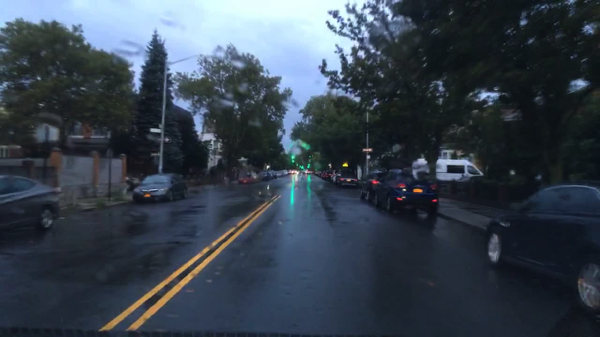car: (484, 184, 599, 314), (0, 175, 60, 233), (375, 168, 440, 216), (133, 173, 188, 203), (358, 169, 387, 201), (336, 170, 359, 188), (238, 174, 260, 184), (126, 175, 139, 191), (260, 172, 271, 181), (330, 170, 337, 184), (323, 170, 333, 179), (269, 169, 277, 179), (288, 170, 295, 175), (308, 170, 315, 175), (315, 171, 322, 176), (277, 171, 283, 176), (284, 170, 288, 175)
traffic light: (306, 163, 310, 169), (292, 155, 295, 160), (308, 154, 311, 158), (292, 158, 294, 163)
traffic sign: (157, 137, 171, 142), (363, 147, 373, 153), (150, 151, 161, 156), (150, 128, 162, 132), (343, 161, 348, 168), (156, 123, 161, 128)
truck: (411, 158, 484, 183)
